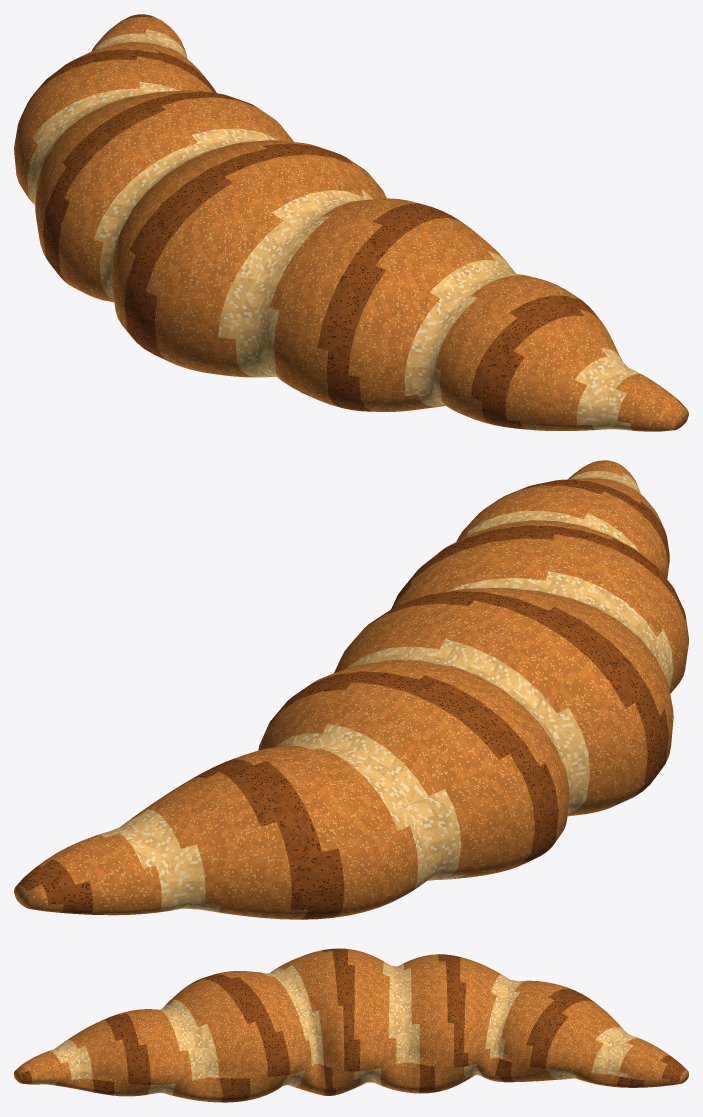
The model's file is w_bread_croissant.glb.
The picture shows the model from 3 angles, top to bottom: view 1: azimuth 30°, elevation 25°; view 2: azimuth 150°, elevation 25°; view 3: azimuth 270°, elevation 25°; orthographic projection. The views are drawn at different scales.
Visible parts, largest first — view 1: croissant_wzA; view 2: croissant_wzA; view 3: croissant_wzA.
Boxes of the visible parts, box(x1,y1,x2,y2) form: croissant_wzA: box(14, 14, 688, 431); croissant_wzA: box(14, 460, 688, 919); croissant_wzA: box(14, 948, 688, 1102).
Bounding box in the file's own units: 0.4814 × 0.2642 × 1.42.
3 materials, 3 textured.
